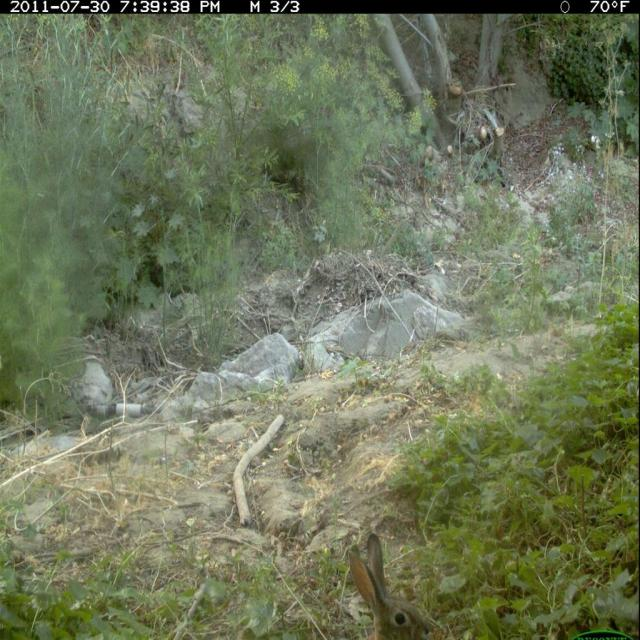rabbit: (339, 527, 438, 640)
